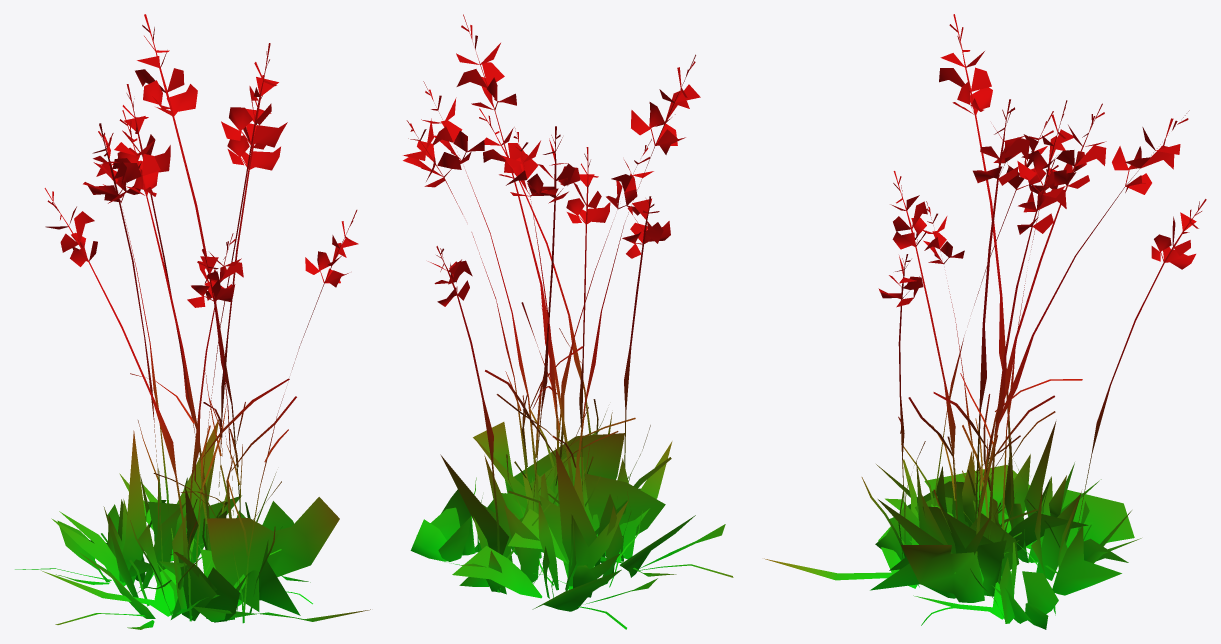
Rendered from Tundra Grass_LOD4_Var7_wk2oaeyqx.fbx.
The picture shows the model from 3 angles, left to right: view 1: azimuth 30°, elevation 25°; view 2: azimuth 150°, elevation 25°; view 3: azimuth 270°, elevation 25°; orthographic projection. The views are drawn at different scales.
Parts seen in each view (by area): view 1: _xfps_Var7_LOD4; view 2: _xfps_Var7_LOD4; view 3: _xfps_Var7_LOD4.
Part boxes in pixels (<box>): _xfps_Var7_LOD4: <box>15,14,370,629</box>; _xfps_Var7_LOD4: <box>403,14,733,629</box>; _xfps_Var7_LOD4: <box>764,14,1206,629</box>.
Bounding box in the file's own units: 39.6 × 72.77 × 55.66.
